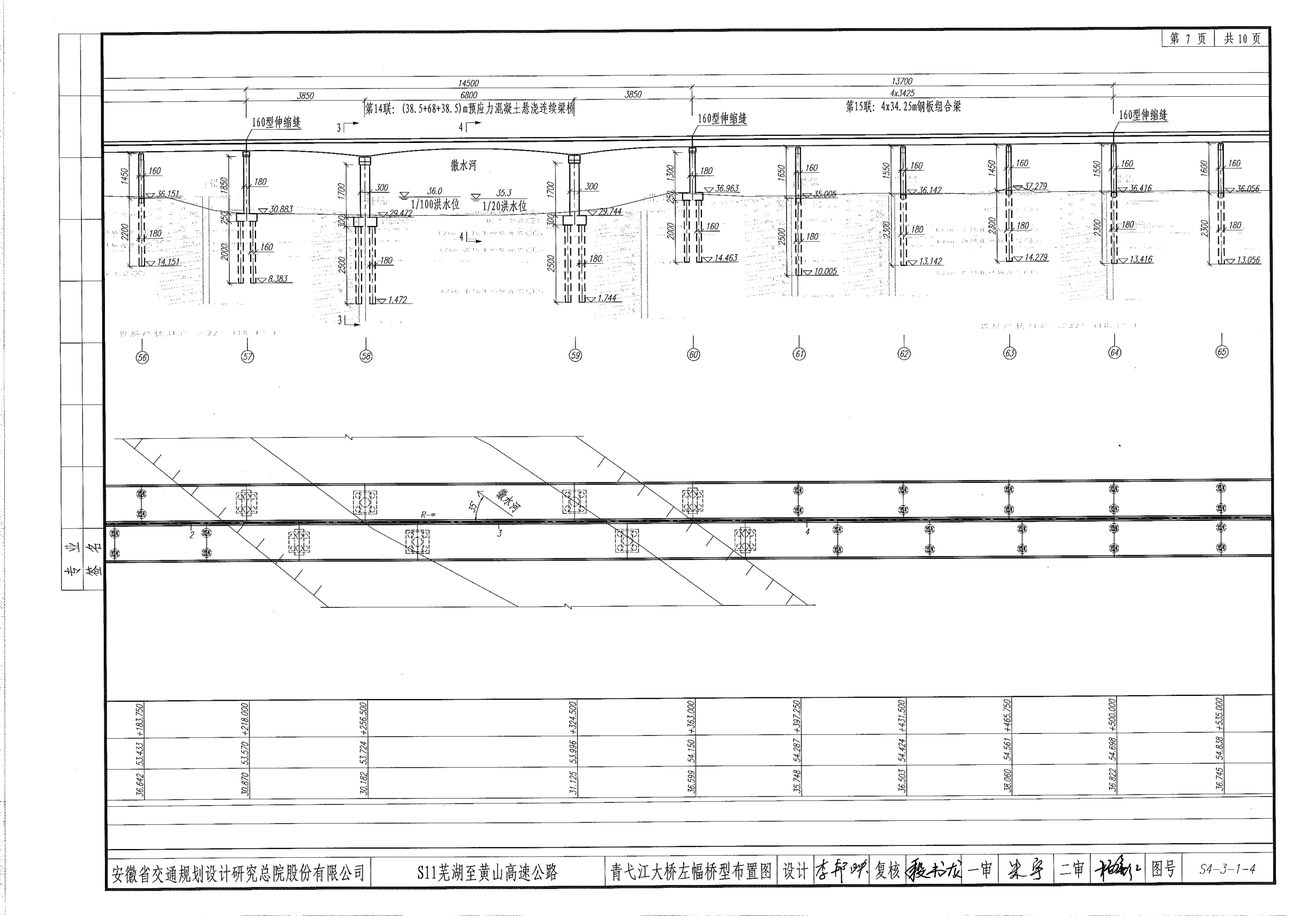A: (87, 46, 1281, 368)
